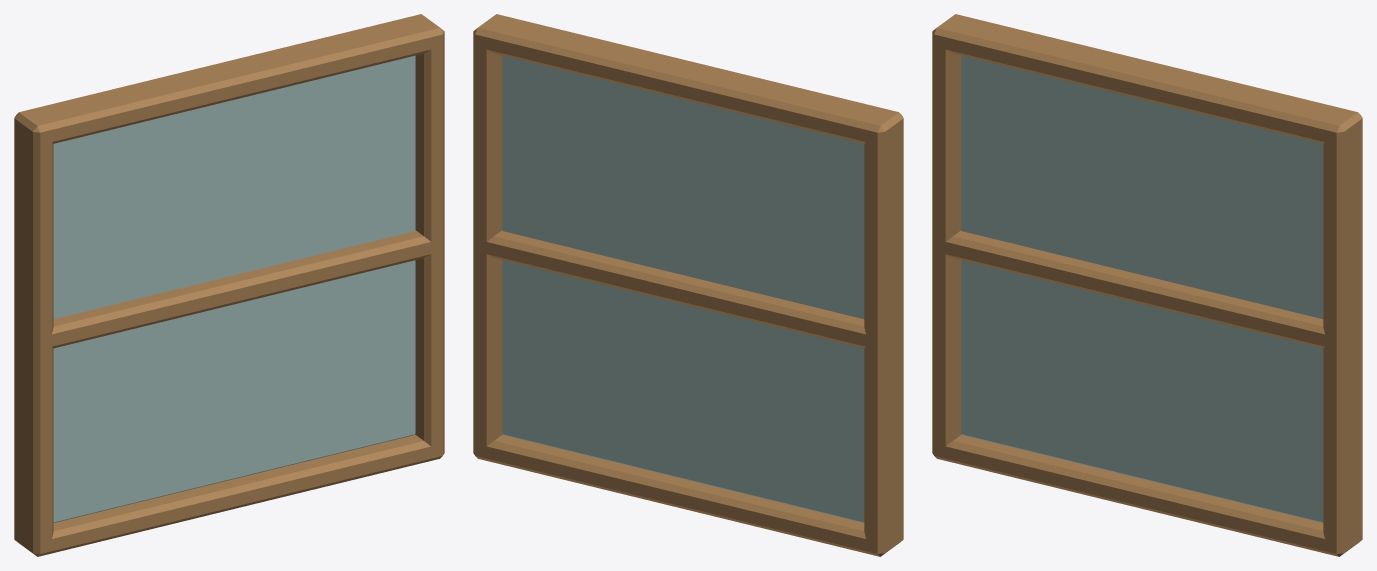
File: window.glb
The picture shows the model from 3 angles, left to right: view 1: azimuth 30°, elevation 25°; view 2: azimuth 150°, elevation 25°; view 3: azimuth 330°, elevation 25°; orthographic projection.
Visible parts, largest first — view 1: window; view 2: window; view 3: window.
Boxes of the visible parts, box(x1,y1,x2,y2) form: window: box(14, 14, 444, 556); window: box(473, 14, 903, 556); window: box(932, 14, 1362, 556).
Size of the model in its own units: 1.58 by 1.58 by 0.16.
